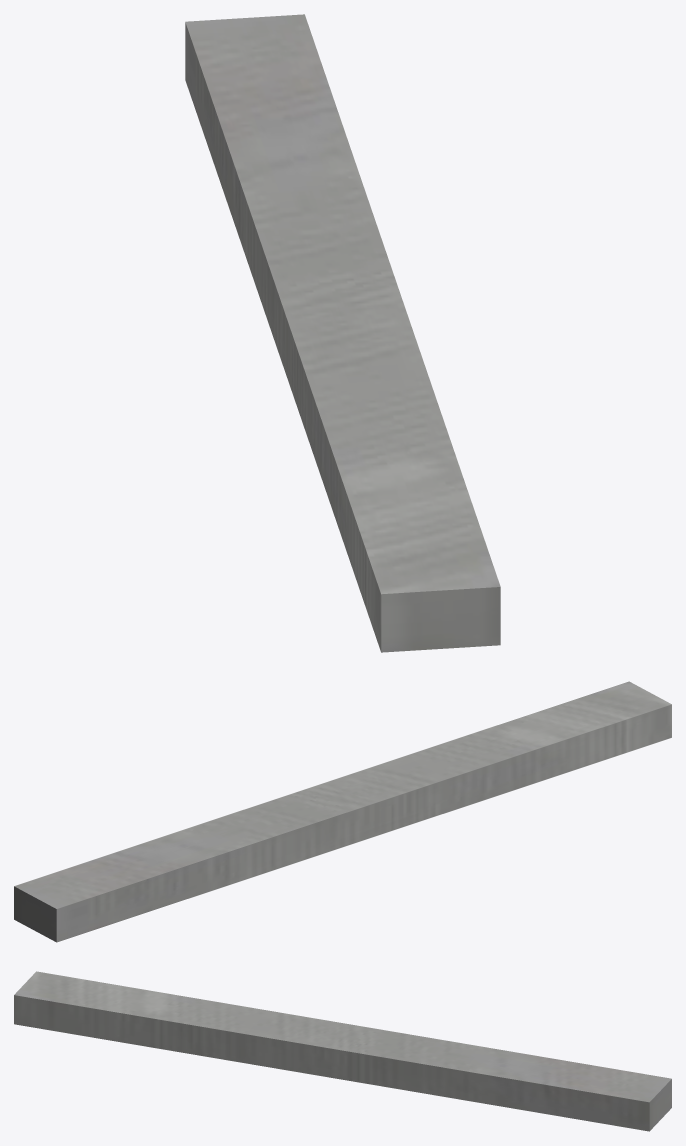
Rendered from ladder_support__side_bar_1.glb.
3 renders of one model, top to bottom at view 1: azimuth 30°, elevation 25°; view 2: azimuth 150°, elevation 25°; view 3: azimuth 270°, elevation 25°, orthographic. The views are drawn at different scales.
Visible parts, largest first — view 1: geometry_0; view 2: geometry_0; view 3: geometry_0.
Part boxes in pixels (x1,y1,x2,y2): geometry_0: (185, 14, 500, 652); geometry_0: (14, 681, 671, 942); geometry_0: (14, 971, 671, 1131).
Bounding box in the file's own units: 0.154 × 0.016 × 0.3269.
1 material, 1 textured.
